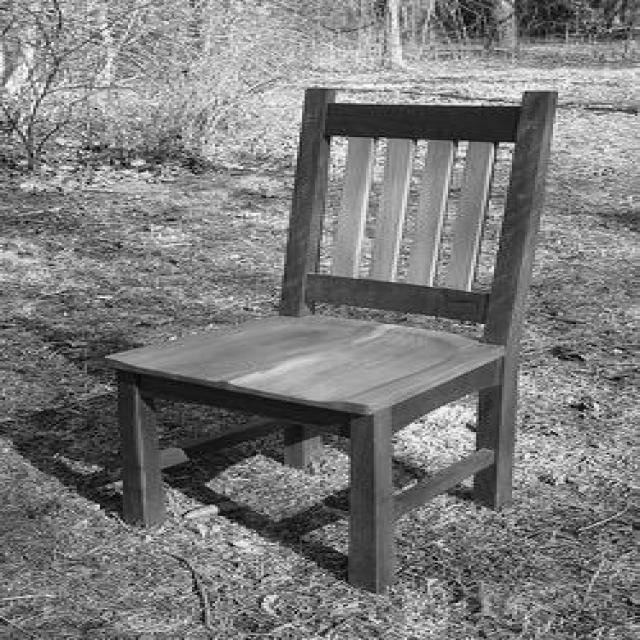chair: (99, 89, 564, 591)
